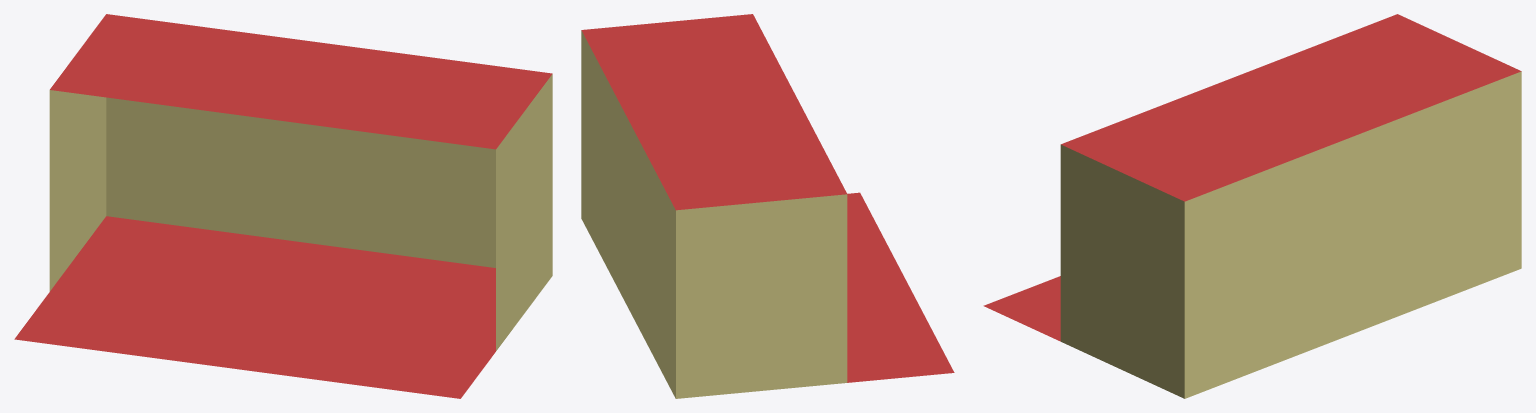
3 views of the same model, side by side, from view 1: azimuth 30°, elevation 25°; view 2: azimuth 150°, elevation 25°; view 3: azimuth 270°, elevation 25° (orthographic). The views are drawn at different scales.
Bounding box in the file's own units: 14.46 × 14.72 × 5.95.
